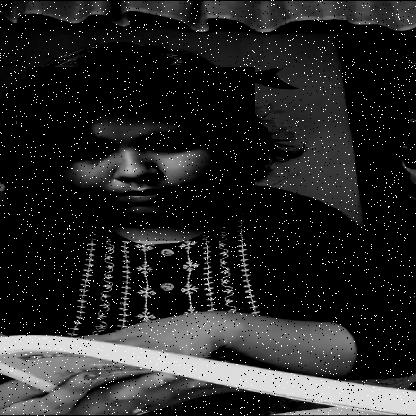Normal: (26, 67, 255, 241)
